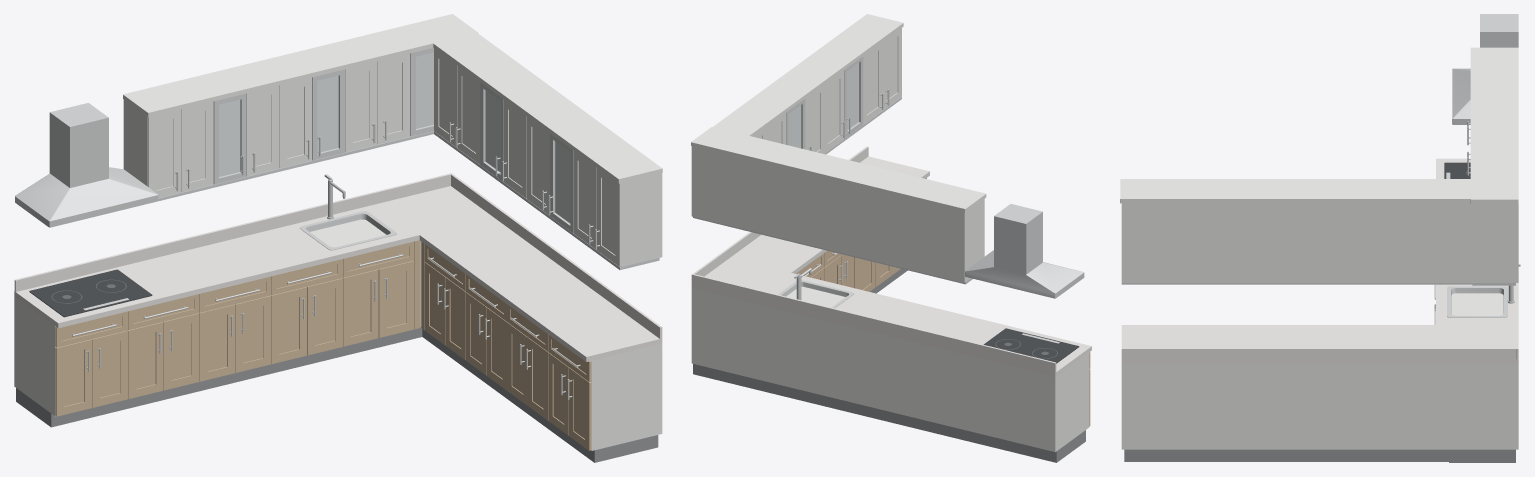
3 renders of one model, left to right at view 1: azimuth 30°, elevation 25°; view 2: azimuth 150°, elevation 25°; view 3: azimuth 270°, elevation 25°, orthographic. The views are drawn at different scales.
Parts seen in each view (by area): view 1: Tủ bếp chữ L Dài cạnh chính=3600; Dài cạnh phụ=3000; Sâu tủ ; view 2: Tủ bếp chữ L Dài cạnh chính=3600; Dài cạnh phụ=3000; Sâu tủ ; view 3: Tủ bếp chữ L Dài cạnh chính=3600; Dài cạnh phụ=3000; Sâu tủ .
Part boxes in pixels (<box>): Tủ bếp chữ L Dài cạnh chính=3600; Dài cạnh phụ=3000; Sâu tủ : <box>14,14,662,462</box>; Tủ bếp chữ L Dài cạnh chính=3600; Dài cạnh phụ=3000; Sâu tủ : <box>691,14,1091,462</box>; Tủ bếp chữ L Dài cạnh chính=3600; Dài cạnh phụ=3000; Sâu tủ : <box>1120,14,1520,462</box>.
Bounding box in the file's own units: 3.61 × 2.2 × 3.02.
